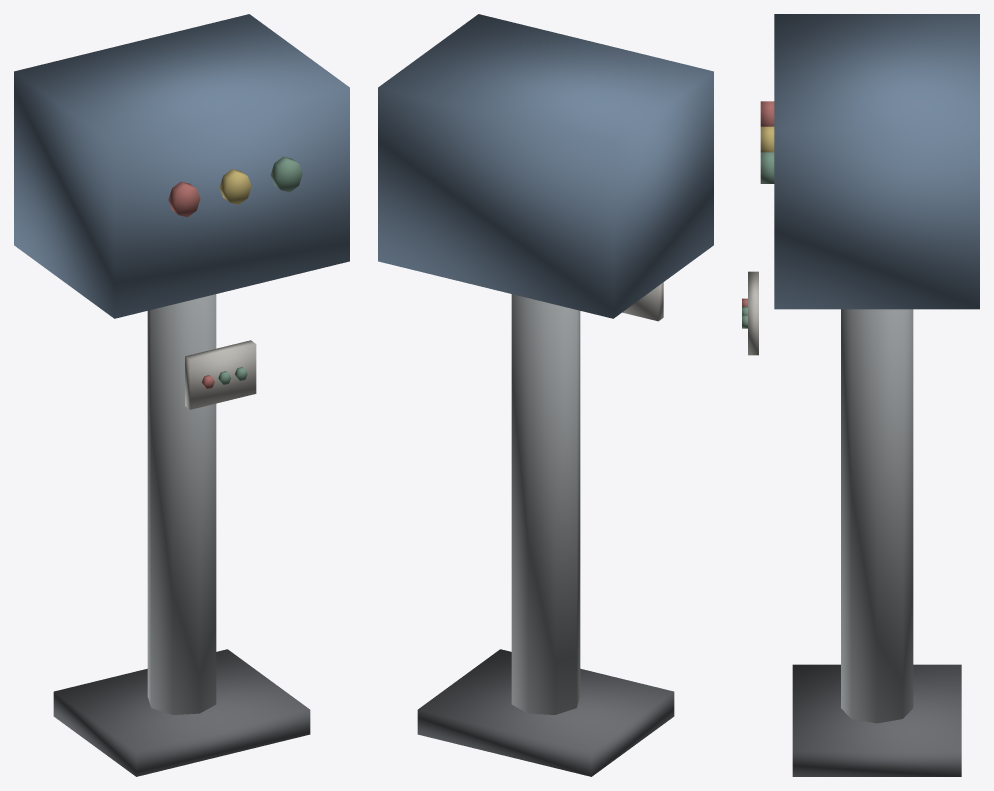
The model's file is pedestal_machine_control__tall.glb.
The picture shows the model from 3 angles, left to right: view 1: azimuth 30°, elevation 25°; view 2: azimuth 150°, elevation 25°; view 3: azimuth 270°, elevation 25°; orthographic projection. The views are drawn at different scales.
Visible parts, largest first — view 1: world; view 2: world; view 3: world.
Part boxes in pixels (<box>): world: <box>14,14,349,776</box>; world: <box>378,14,713,776</box>; world: <box>742,14,979,776</box>.
Bounding box in the file's own units: 0.46 × 1.21 × 0.3935.
